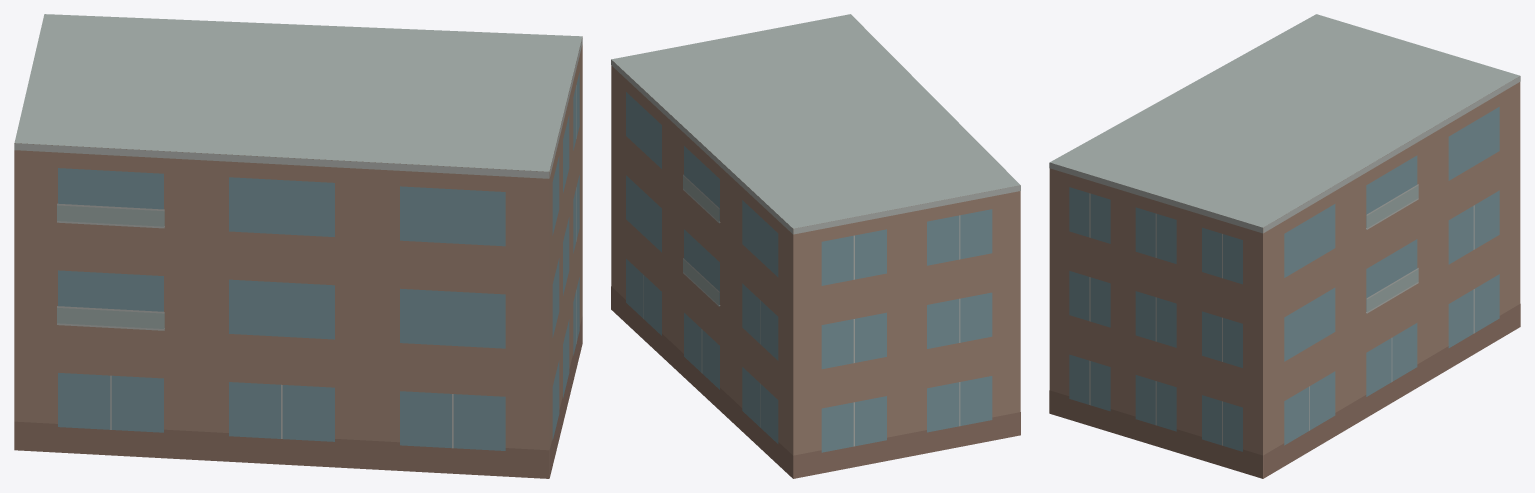
Rendered from survey-upis-32890394.glb.
The picture shows the model from 3 angles, left to right: view 1: azimuth 30°, elevation 25°; view 2: azimuth 150°, elevation 25°; view 3: azimuth 270°, elevation 25°; orthographic projection. The views are drawn at different scales.
Visible parts, largest first — view 1: survey-upis-32890394.tmp; view 2: survey-upis-32890394.tmp; view 3: survey-upis-32890394.tmp.
Boxes of the visible parts, x1,y1,x2,y2 form: survey-upis-32890394.tmp: (14, 14, 582, 478); survey-upis-32890394.tmp: (611, 14, 1020, 478); survey-upis-32890394.tmp: (1049, 14, 1520, 478).
Size of the model in its own units: 19.26 by 10.55 by 17.93.
